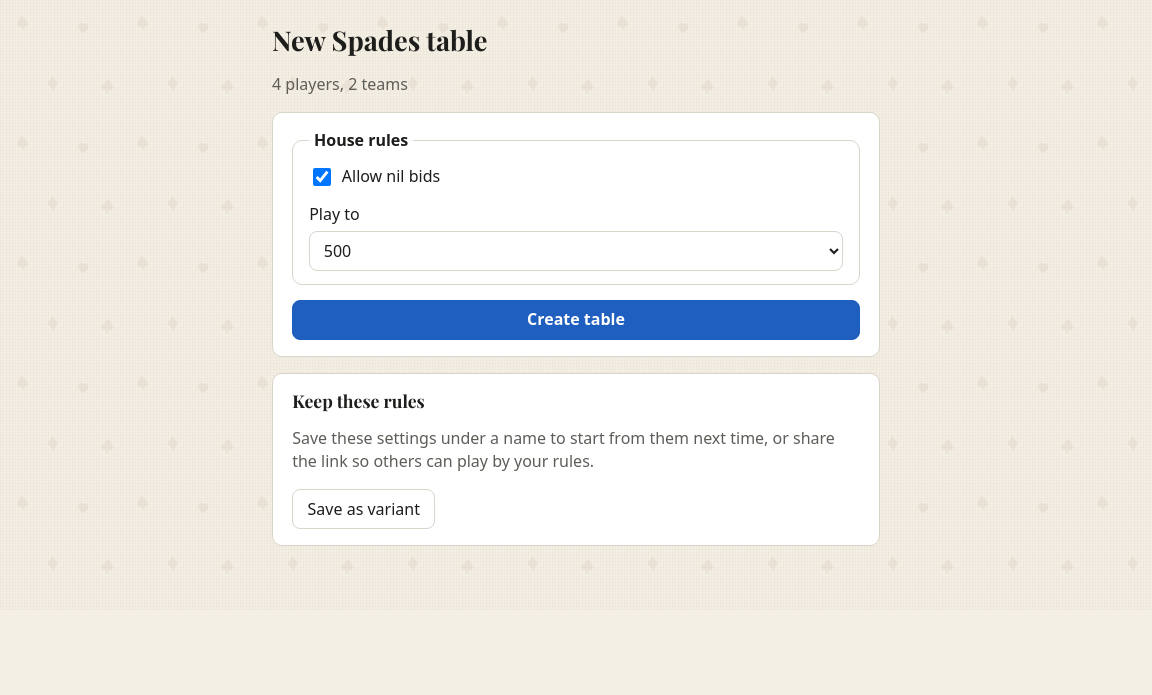
Test: creating a table from a variant › saves the chosen rules under a name and shows the share link
Click the checkbox labelled "Allow nil bids" at (322, 177), box [313,168,331,186]
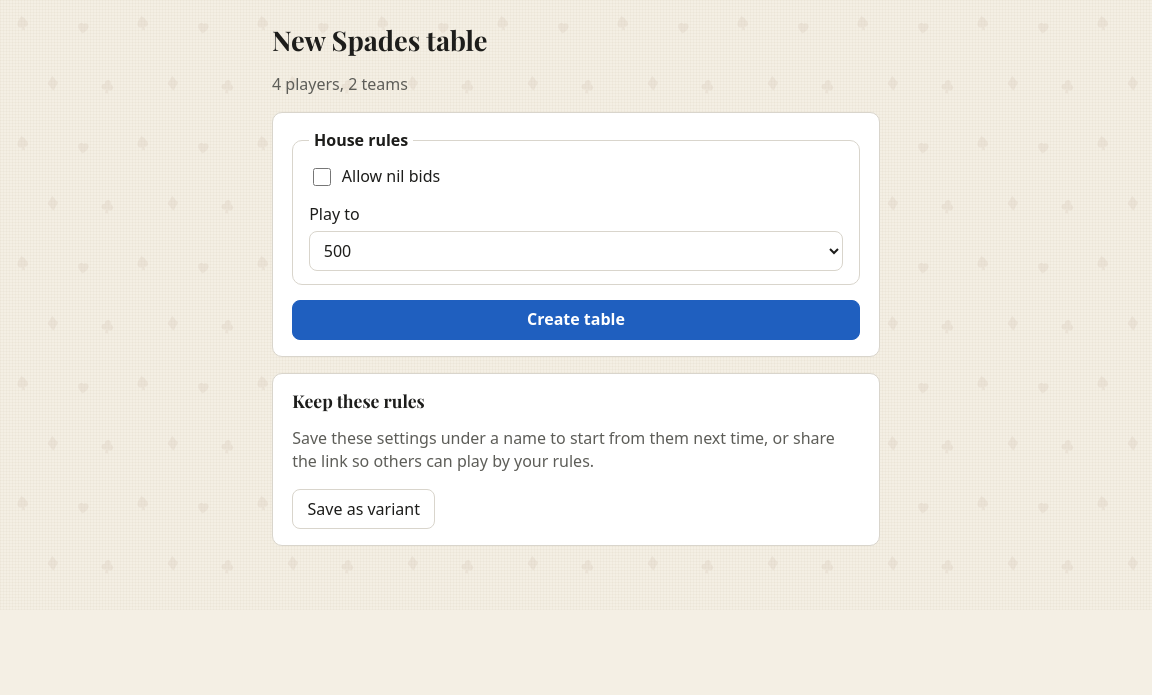
Click the button "Save as variant" at (364, 509), box [292,489,435,529]
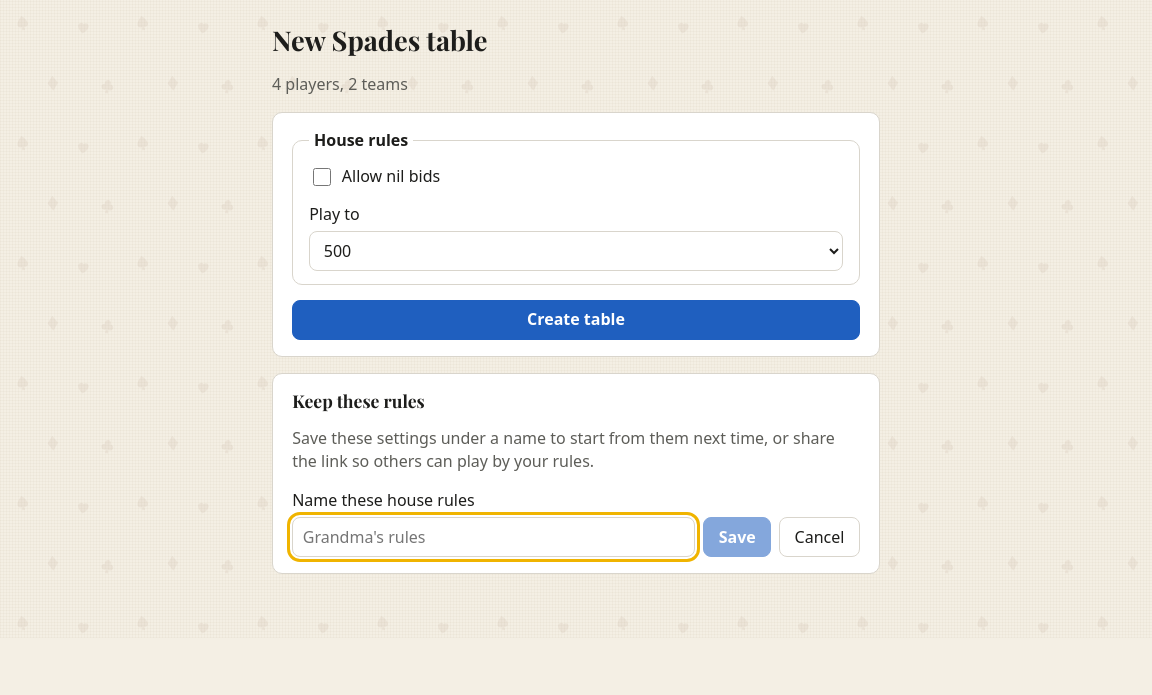
Type " Ours " into the field labelled "Name these house rules" at (494, 537), box [292,517,695,557]
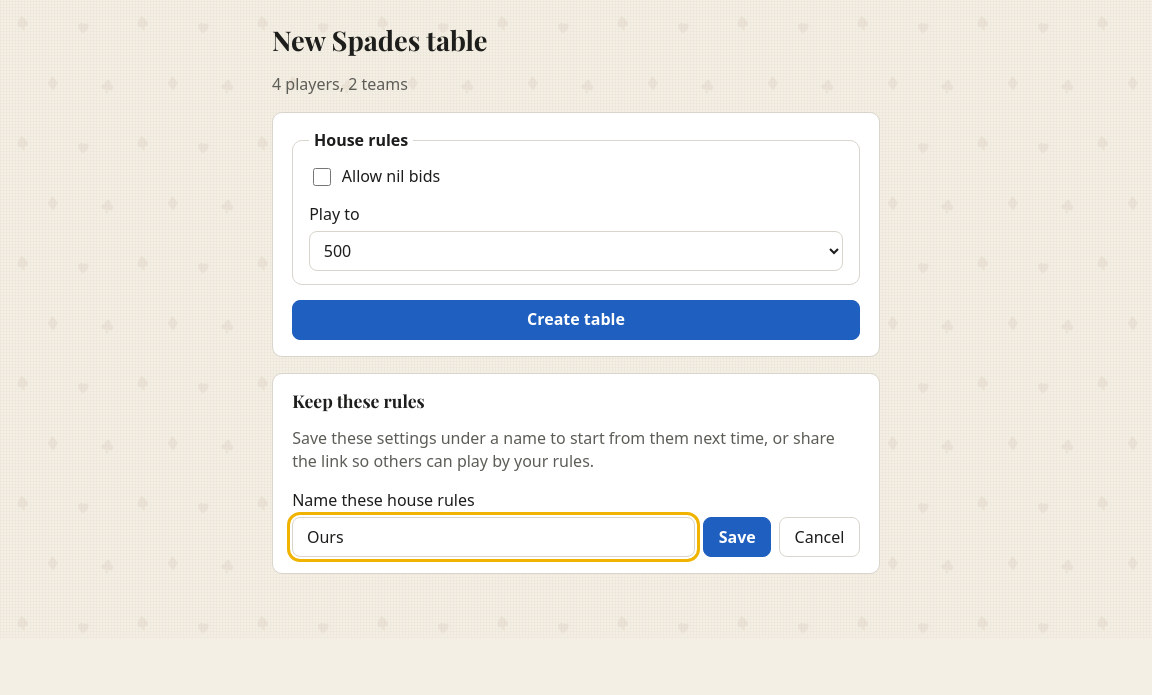
Click the button "Save" at (737, 537), box [703,517,771,557]
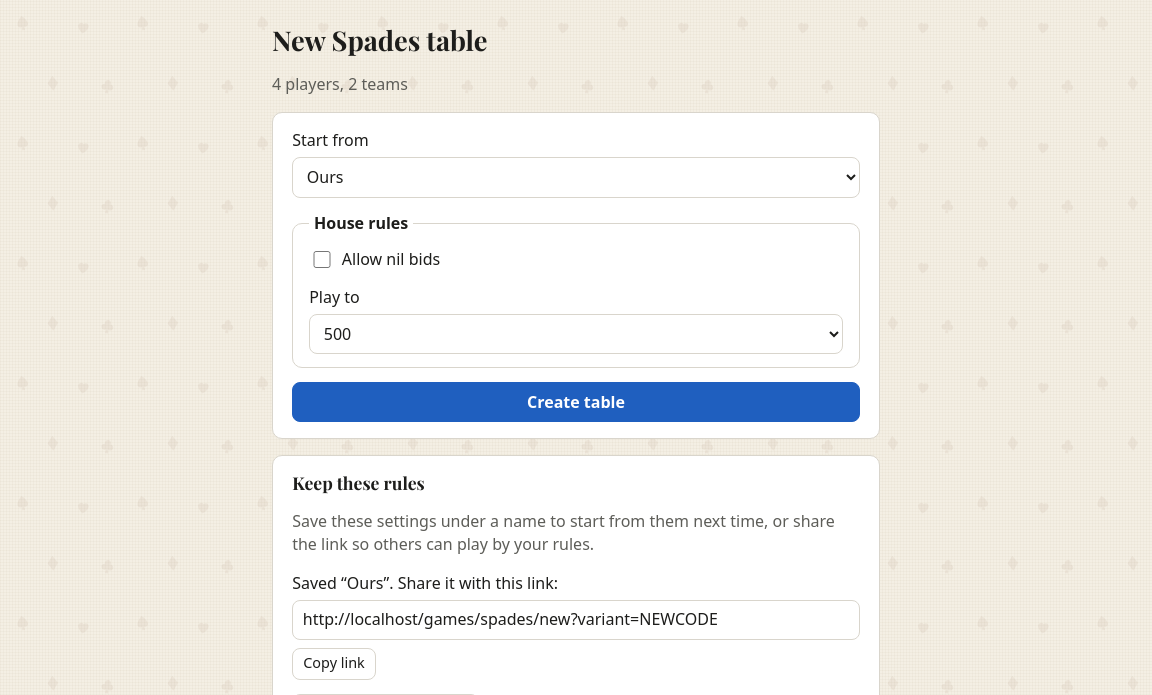
Now the dropdown labelled "Start from" shows "Ours", box [292,157,860,198]
